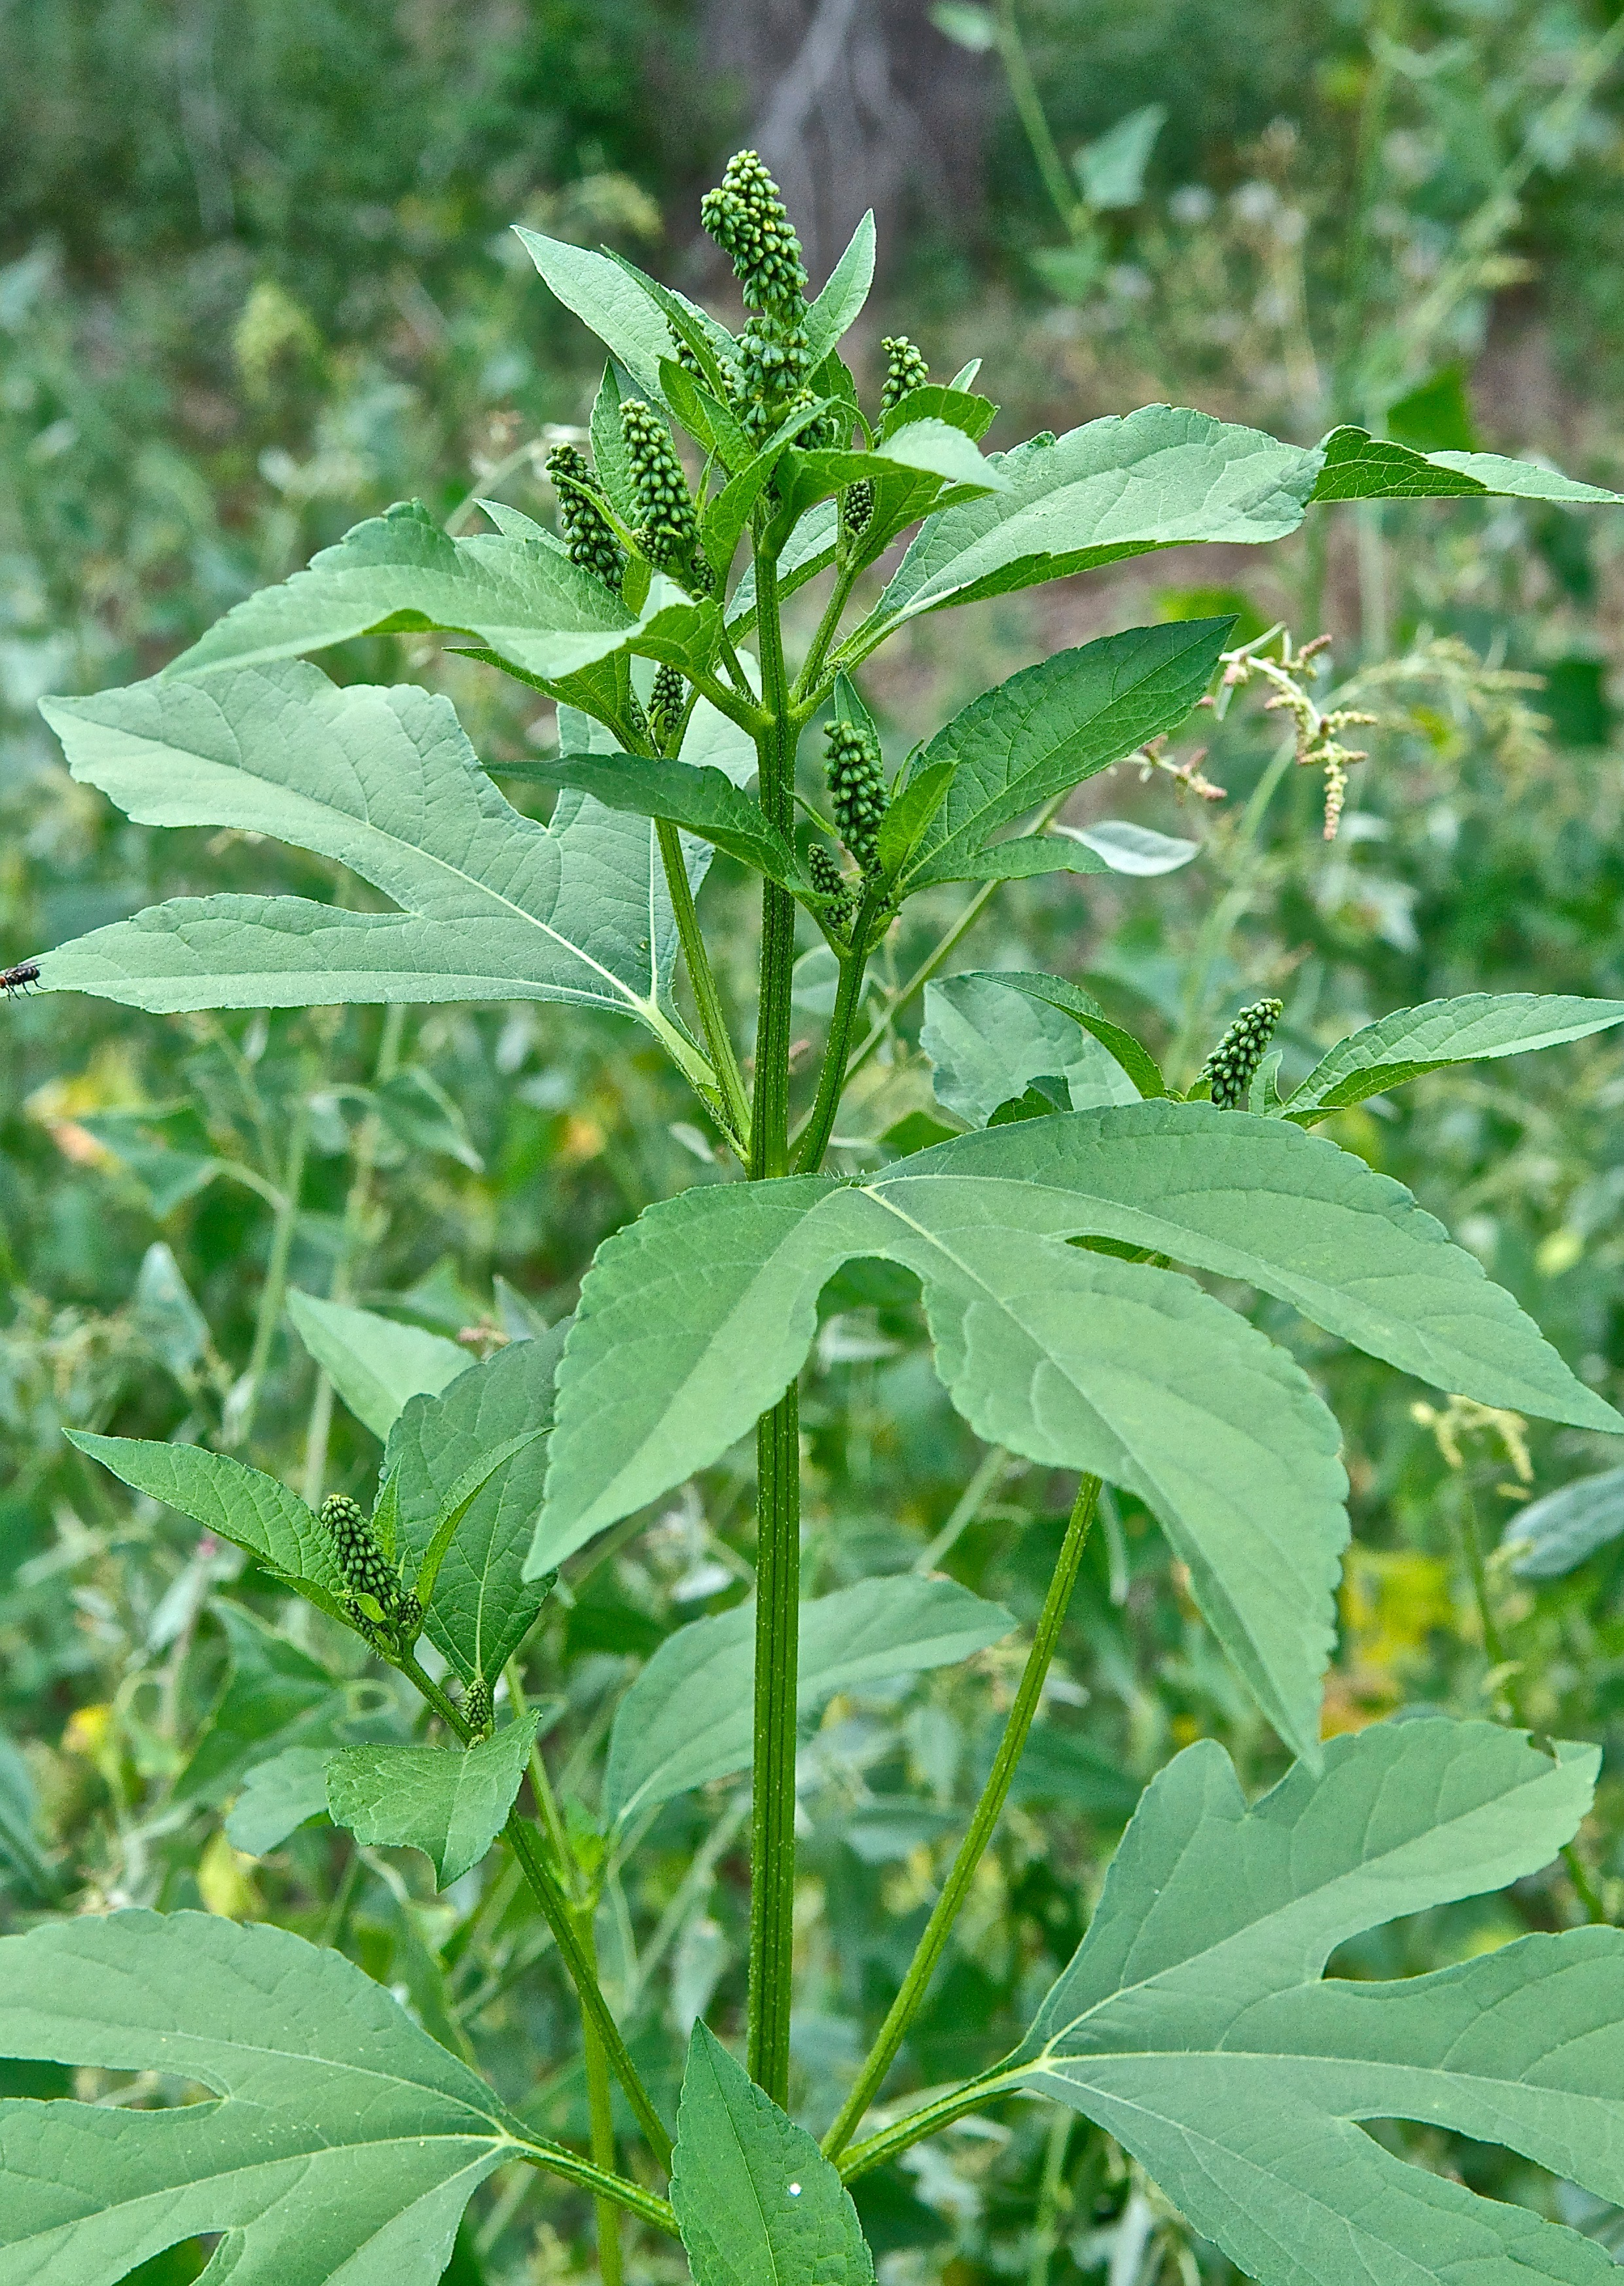Giant Ragweed: (497, 146, 1030, 996), (251, 1441, 462, 1648)
